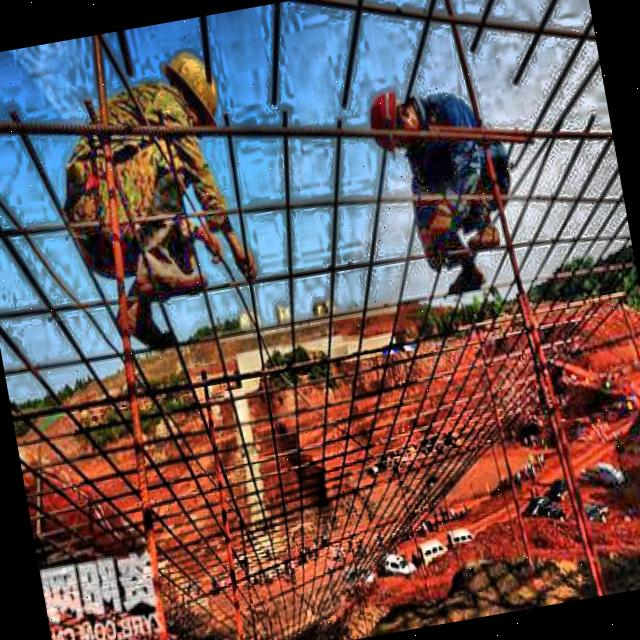helmet: (154, 38, 226, 133), (360, 85, 428, 152)
